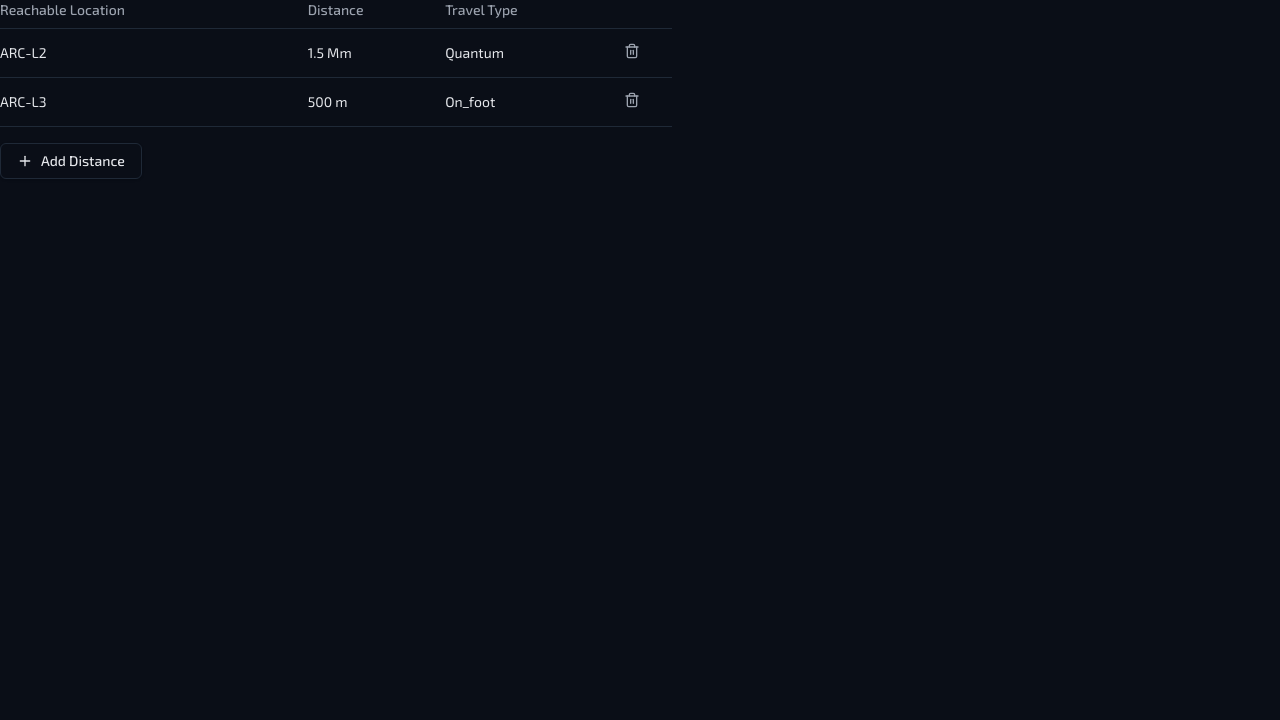
DistancesTab › shows error when delete fails
This screenshot has width=1280, height=720.
Expected: the text "ARC-L2" is shown, [0, 28, 308, 78]
Note: Click delete
Click the button named "Delete distance to ARC-L2". click: coordinates (632, 51)
box: [624, 43, 640, 59]
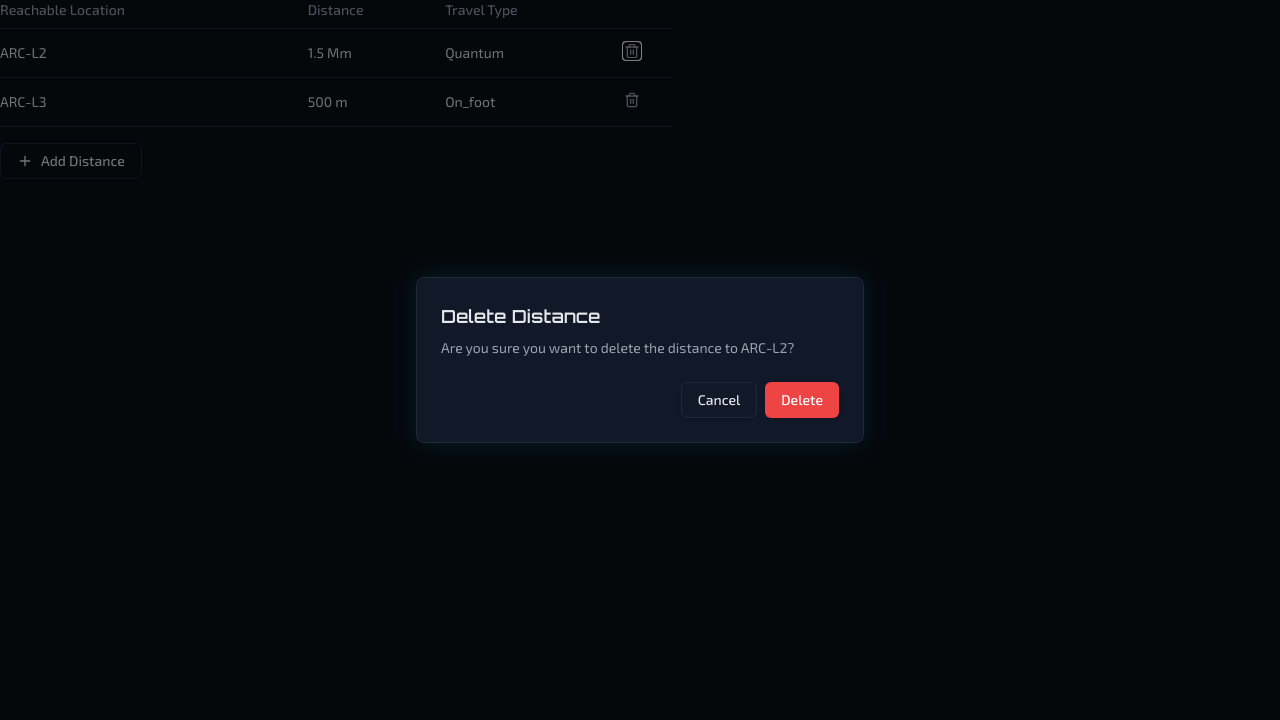
Click the button "Delete". click: coordinates (802, 400)
box: [765, 382, 839, 418]
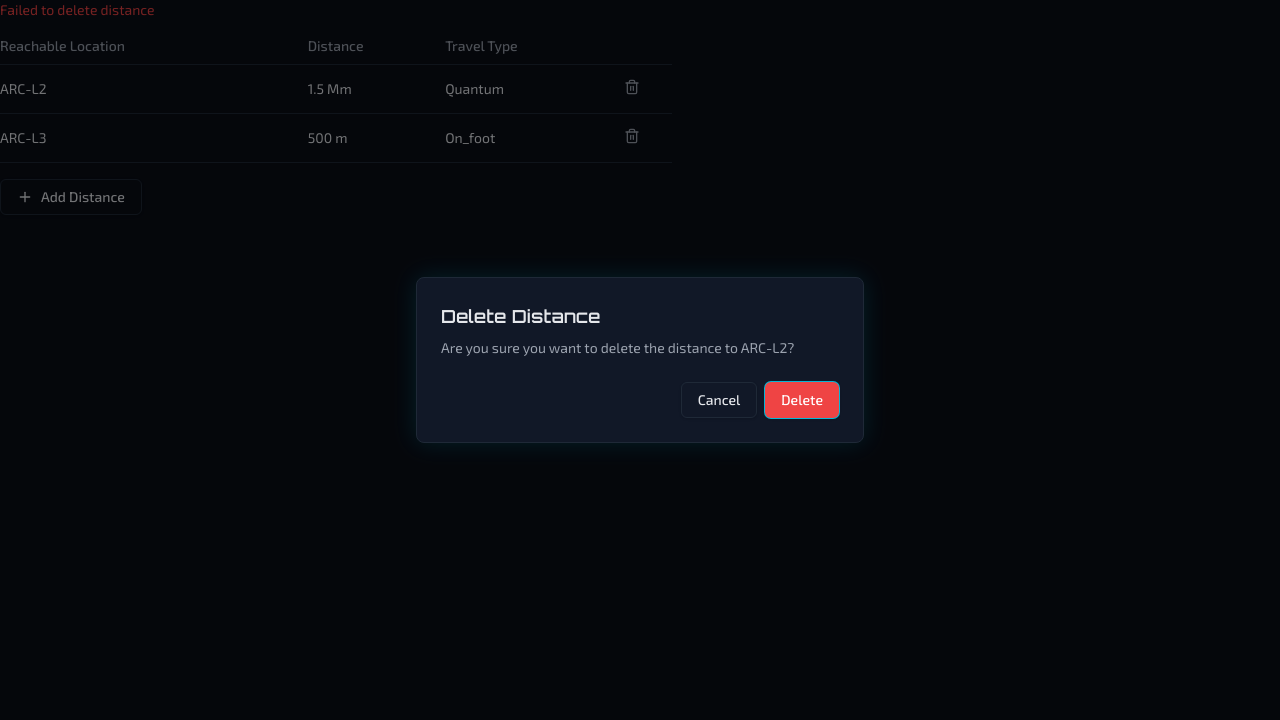
Expected: the text "ARC-L2" is shown, [0, 64, 308, 114]
Result: the text "Failed to delete distance" is shown at [0, 1, 155, 18]
